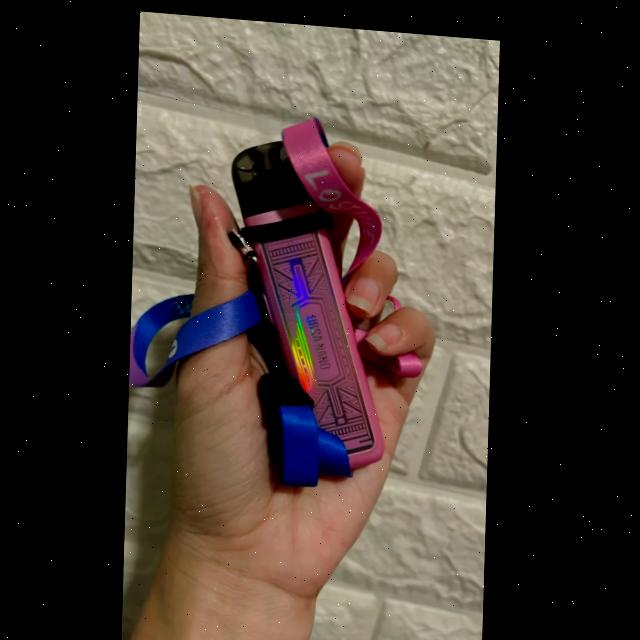vape: (223, 132, 396, 469)
